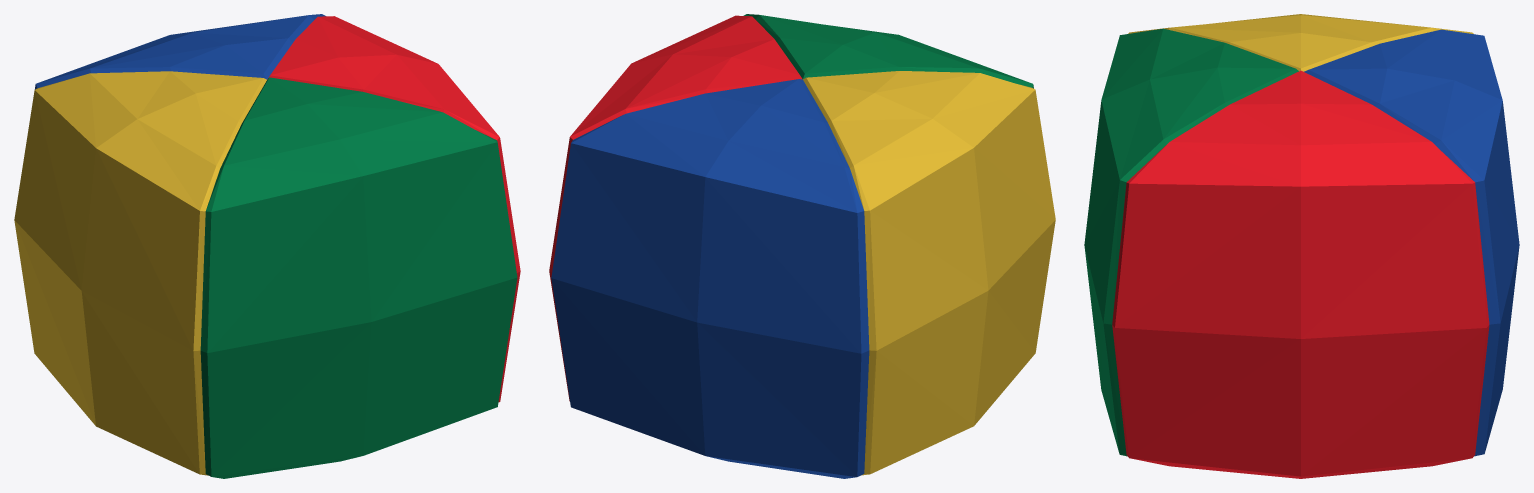
Rendered from cYbPVv0xBbK.glb.
The picture shows the model from 3 angles, left to right: view 1: azimuth 30°, elevation 25°; view 2: azimuth 150°, elevation 25°; view 3: azimuth 270°, elevation 25°; orthographic projection. The views are drawn at different scales.
Parts seen in each view (by area): view 1: Node; view 2: Node; view 3: Node.
Part boxes in pixels (x1,y1,x2,y2): Node: [14, 14, 520, 478]; Node: [549, 14, 1055, 478]; Node: [1084, 14, 1519, 478].
Size of the model in its own units: 1.12 by 1 by 1.1.
